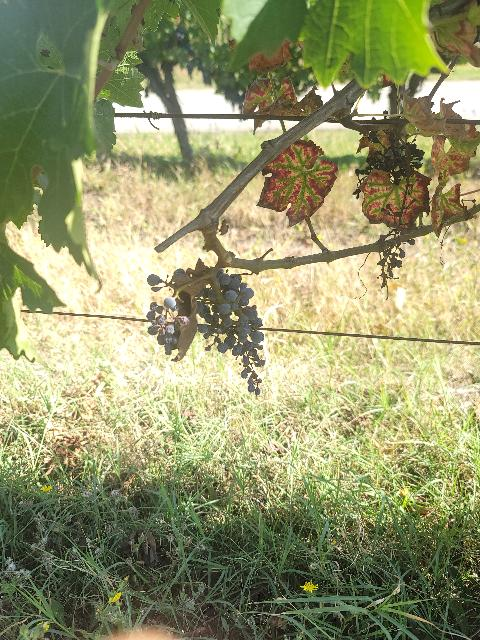grapes: (146, 269, 265, 395)
